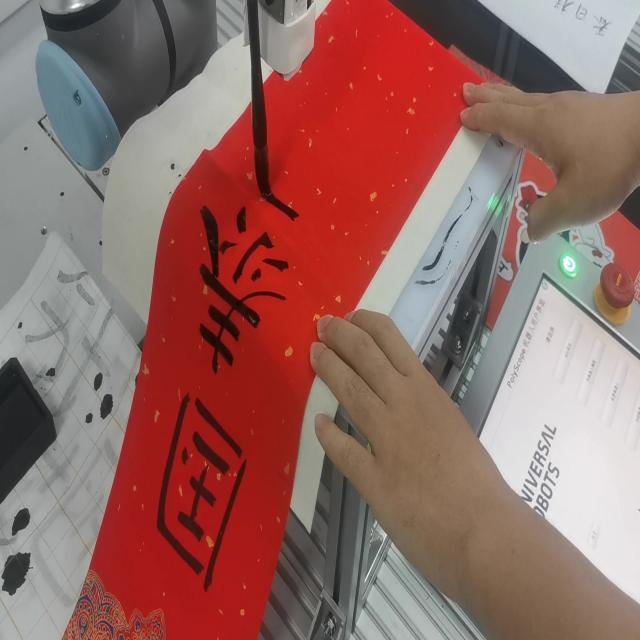head: (250, 148, 275, 202)
inkstone: (0, 352, 59, 528)
